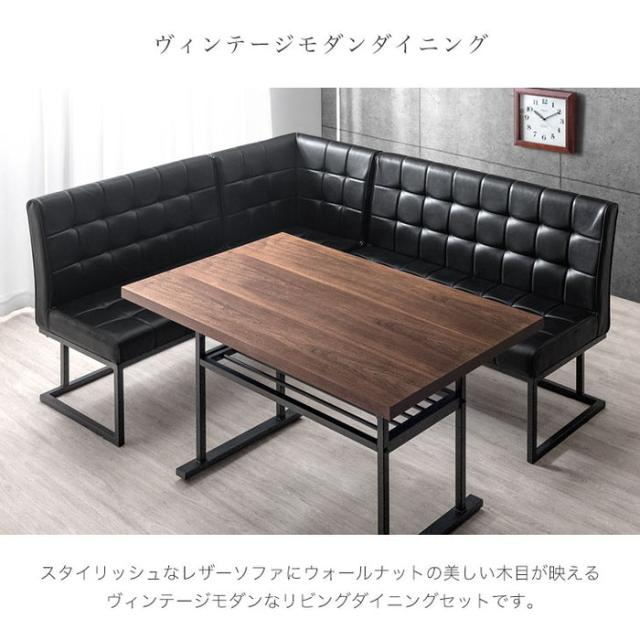vintage desk: (118, 231, 545, 532)
vintage sofa: (27, 128, 618, 461)
